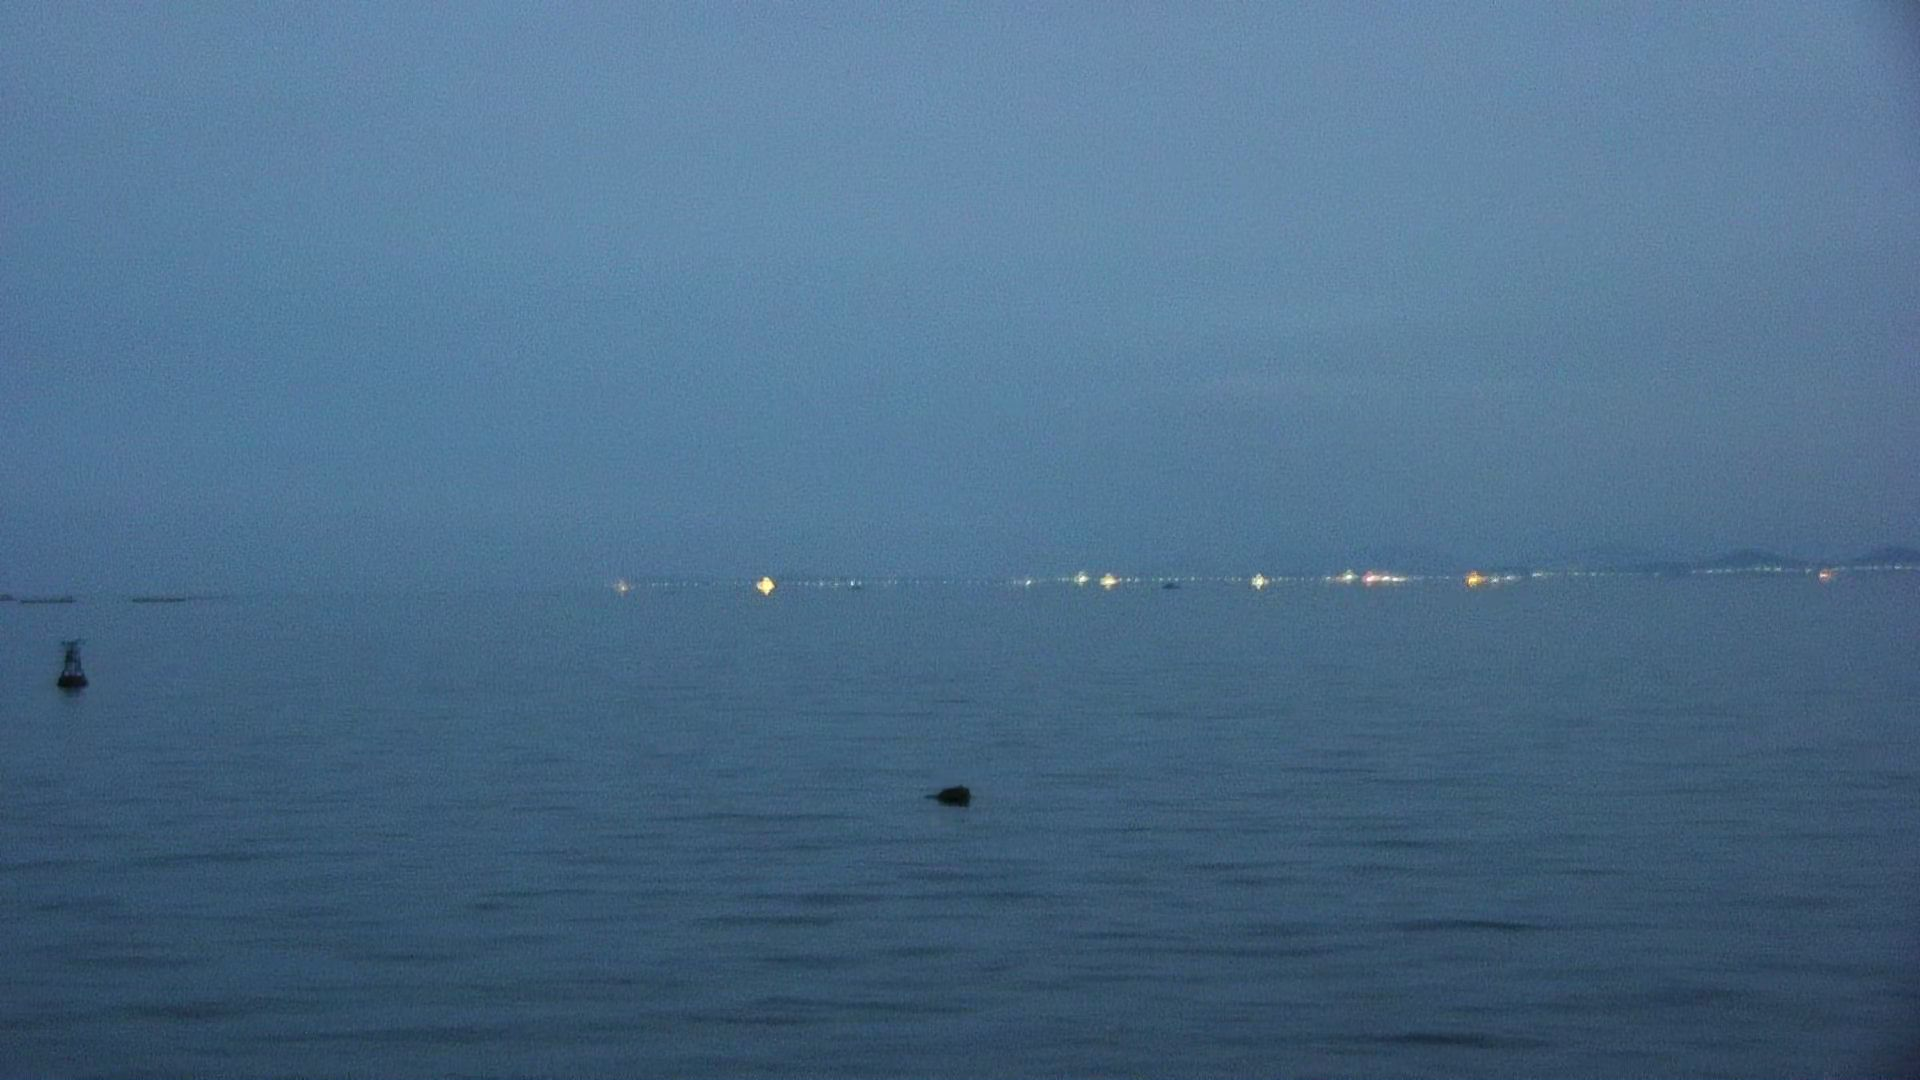buoy: (50, 632, 100, 694)
rubbish: (926, 777, 978, 815)
